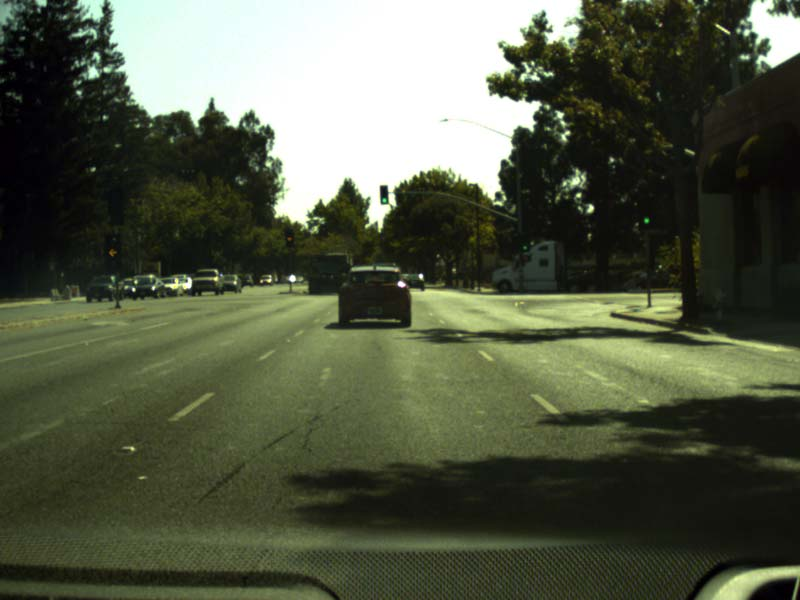Green: (638, 198, 652, 228), (521, 234, 529, 251), (380, 186, 387, 203)
Red: (105, 235, 120, 268), (286, 229, 292, 246)
